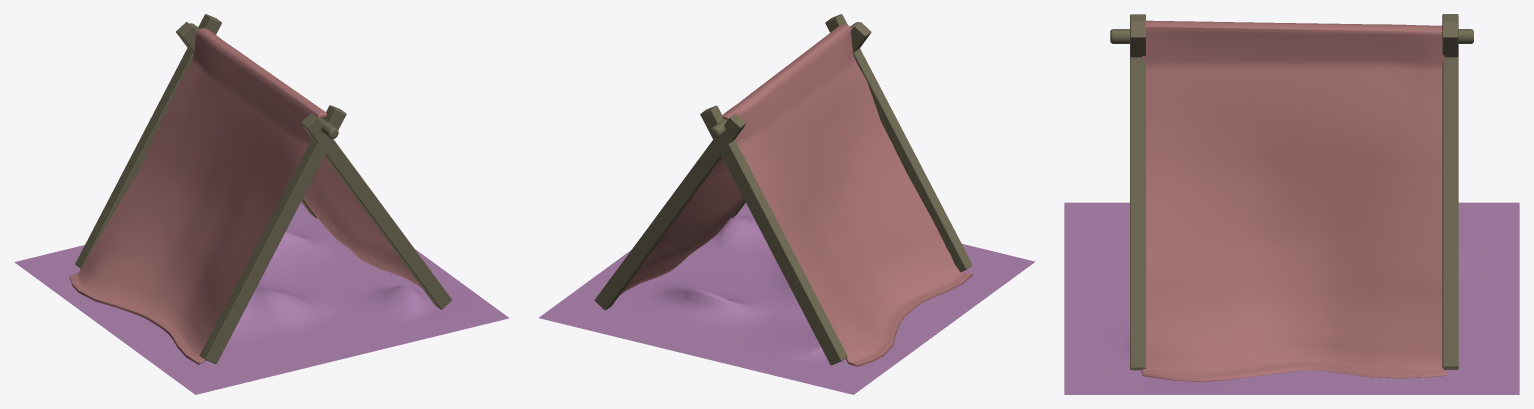
Rendered from Carpa.fbx.
The picture shows the model from 3 angles, left to right: view 1: azimuth 30°, elevation 25°; view 2: azimuth 150°, elevation 25°; view 3: azimuth 270°, elevation 25°; orthographic projection. The views are drawn at different scales.
Parts seen in each view (by area): view 1: polySurface20; view 2: polySurface20; view 3: polySurface20.
Part boxes in pixels (x1,y1,x2,y2): polySurface20: (14, 14, 509, 394); polySurface20: (539, 14, 1035, 394); polySurface20: (1064, 14, 1519, 394).
Bounding box in the file's own units: 63.08 × 43.53 × 63.08.
